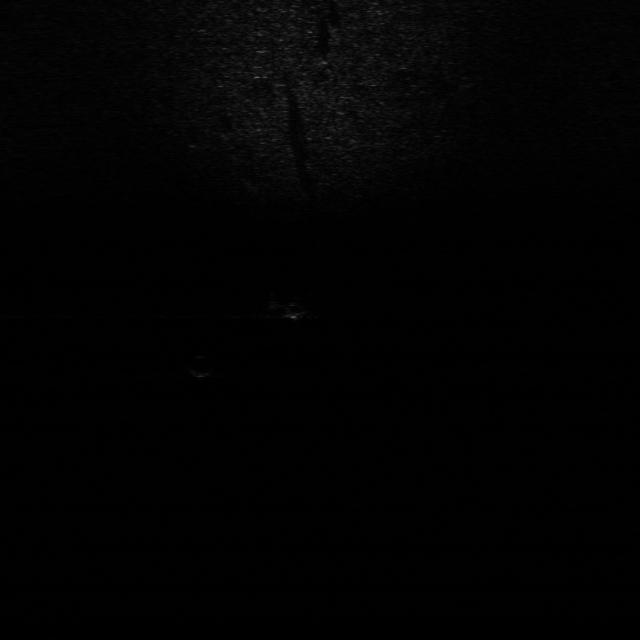ball: (184, 351, 217, 379)
human body: (266, 290, 316, 326)
